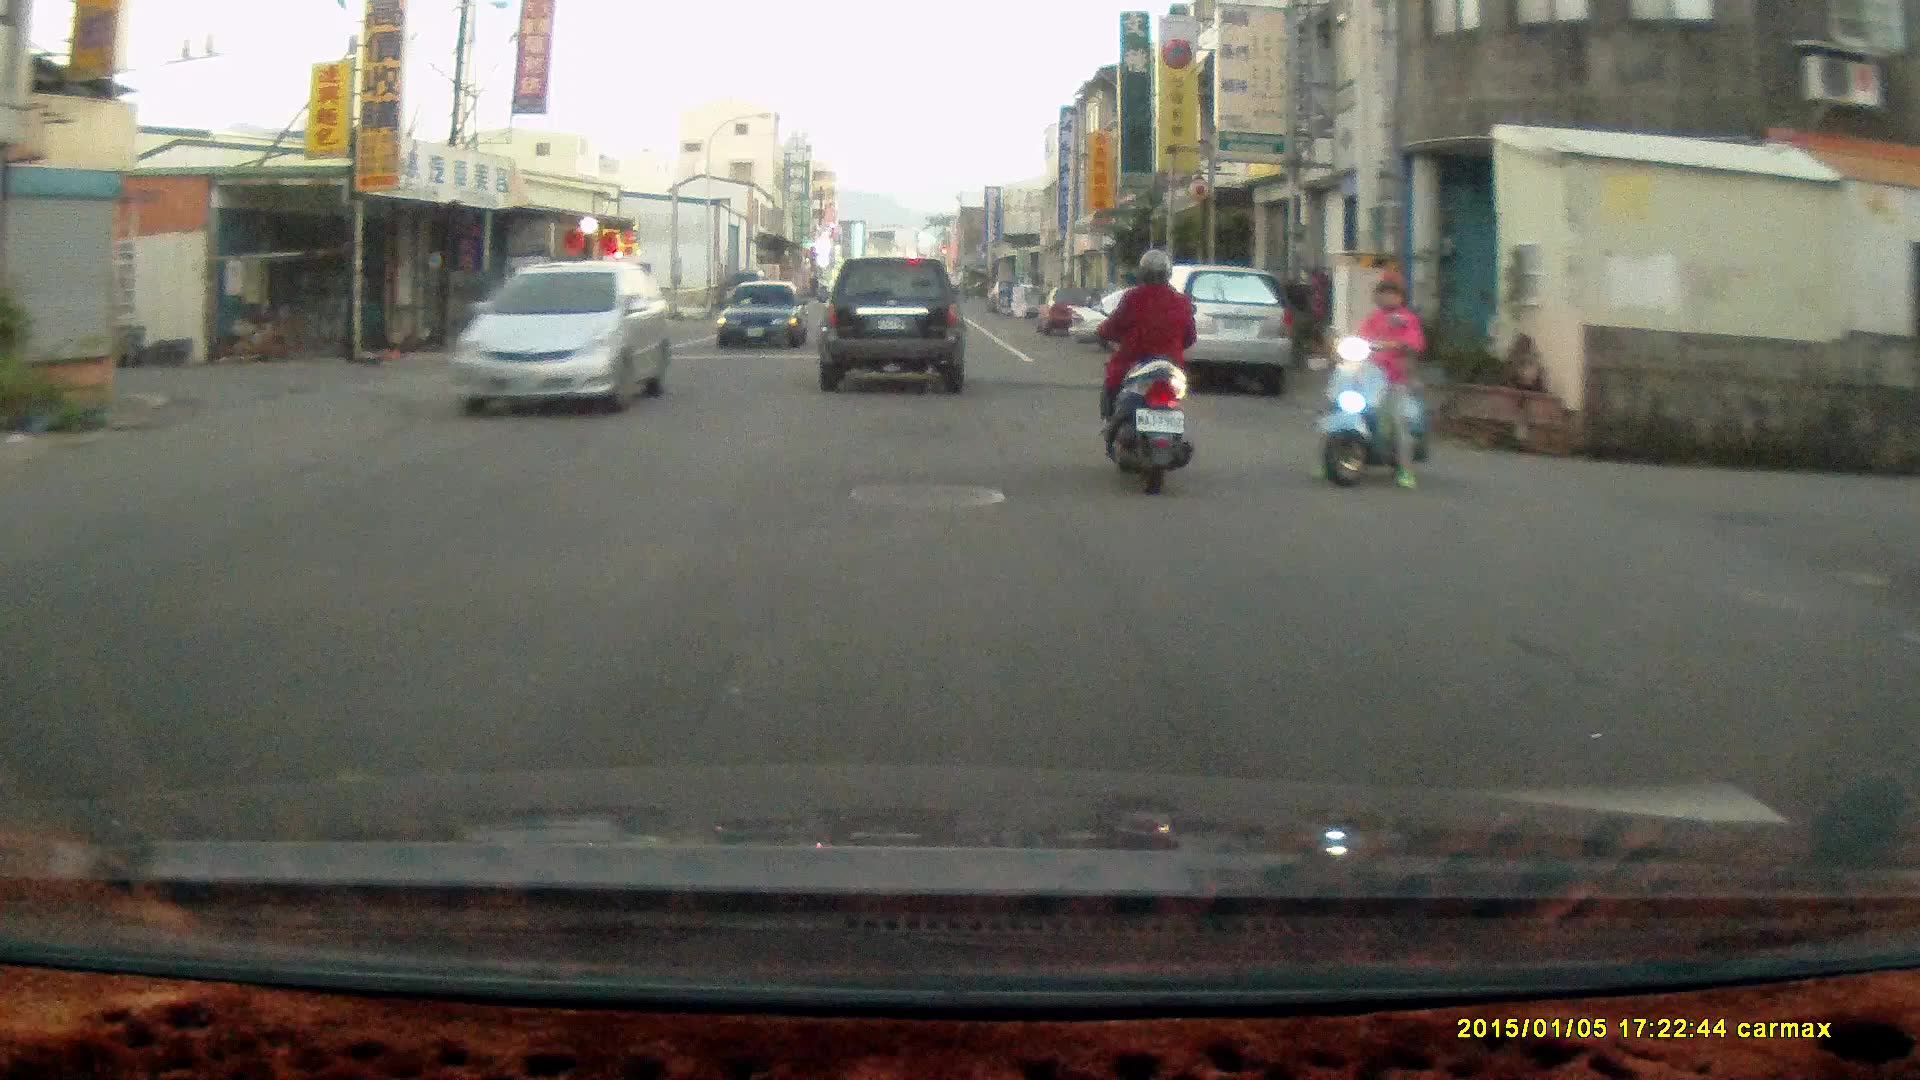rider: (1306, 269, 1429, 489), (1099, 248, 1195, 502)
vehicle: (456, 258, 674, 416), (1125, 265, 1296, 396), (818, 256, 967, 399), (1067, 283, 1245, 355), (722, 282, 810, 353)
